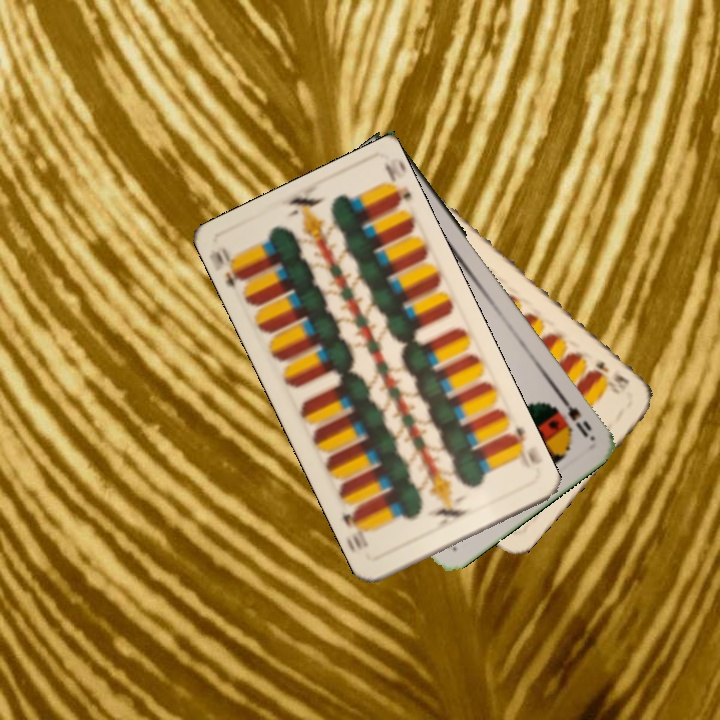E10: (207, 243, 249, 292), (501, 422, 544, 467), (590, 357, 633, 395)
SO: (554, 389, 596, 441)
